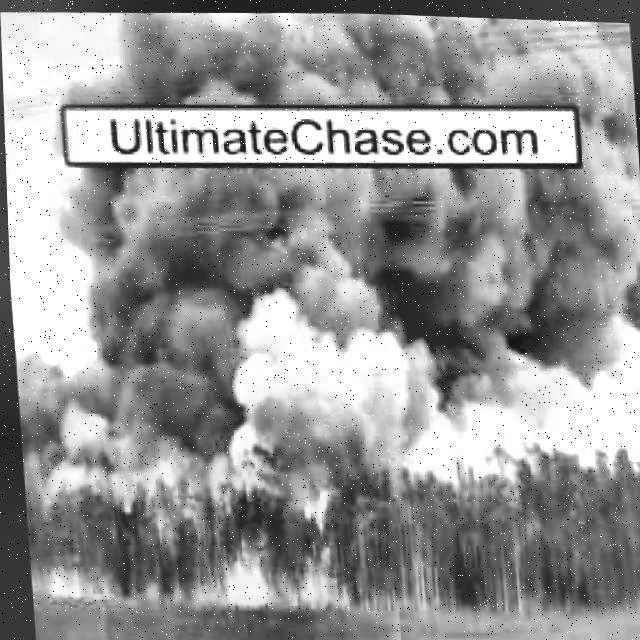Fire: (212, 487, 345, 609), (132, 416, 191, 508), (44, 567, 90, 596)
Smoke: (48, 136, 640, 490), (54, 2, 635, 117)
